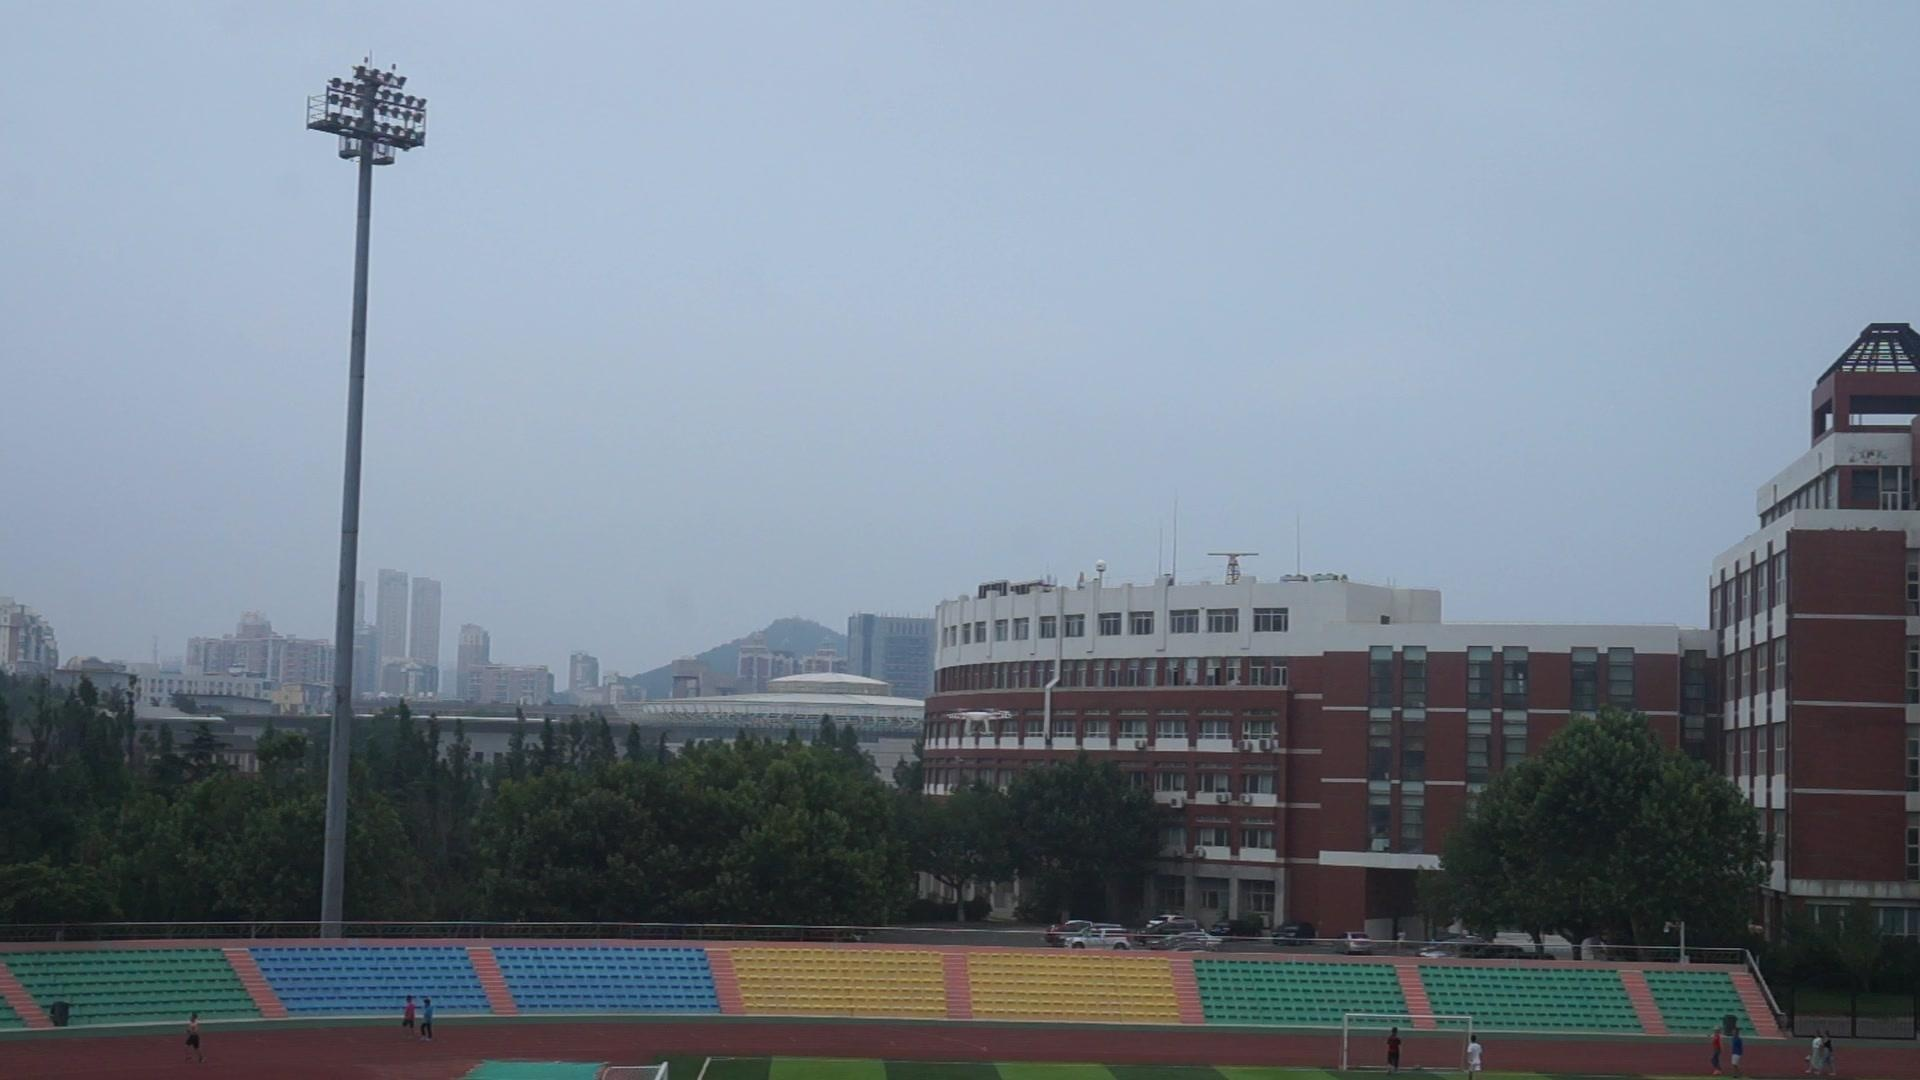UAV: (945, 708, 1015, 737)
